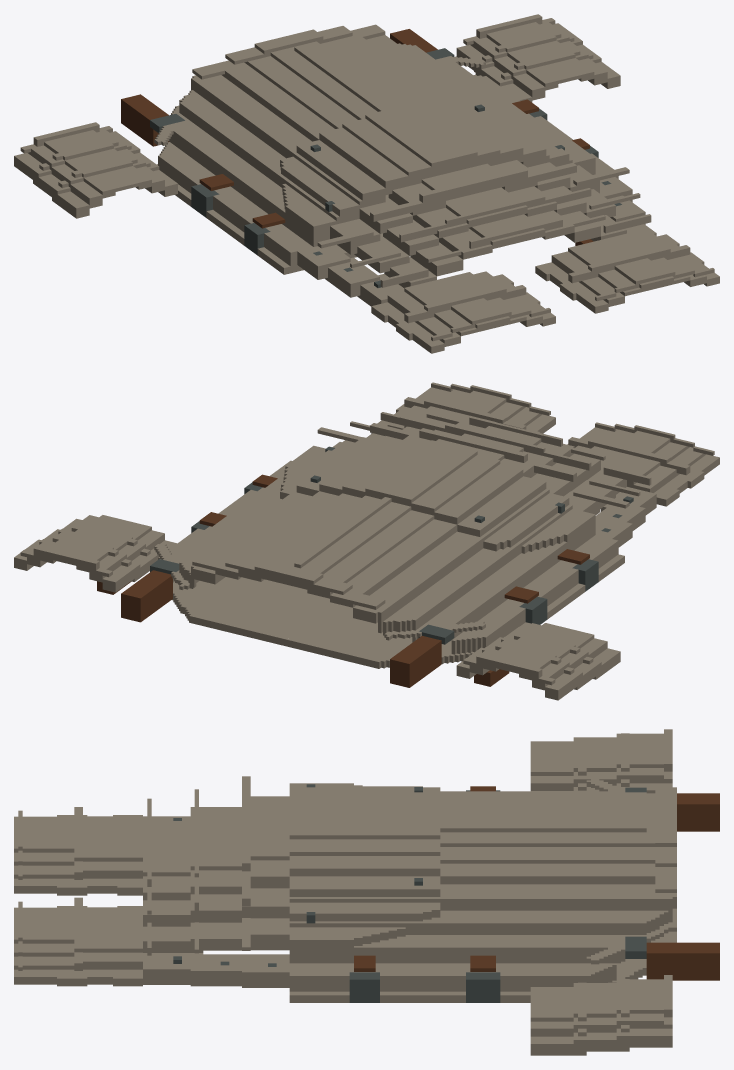
File: armor_qt_heavy_chestplate.glb
3 renders of one model, top to bottom at view 1: azimuth 30°, elevation 25°; view 2: azimuth 150°, elevation 25°; view 3: azimuth 270°, elevation 25°, orthographic. The views are drawn at different scales.
Parts seen in each view (by area): view 1: armor_qt_heavy_chestplate:compound; view 2: armor_qt_heavy_chestplate:compound; view 3: armor_qt_heavy_chestplate:compound.
Boxes of the visible parts, <box> form: armor_qt_heavy_chestplate:compound: <box>14,14,719,353</box>; armor_qt_heavy_chestplate:compound: <box>14,382,719,700</box>; armor_qt_heavy_chestplate:compound: <box>14,729,719,1055</box>.
Size of the model in its own units: 0.664 by 0.088 by 0.656.
